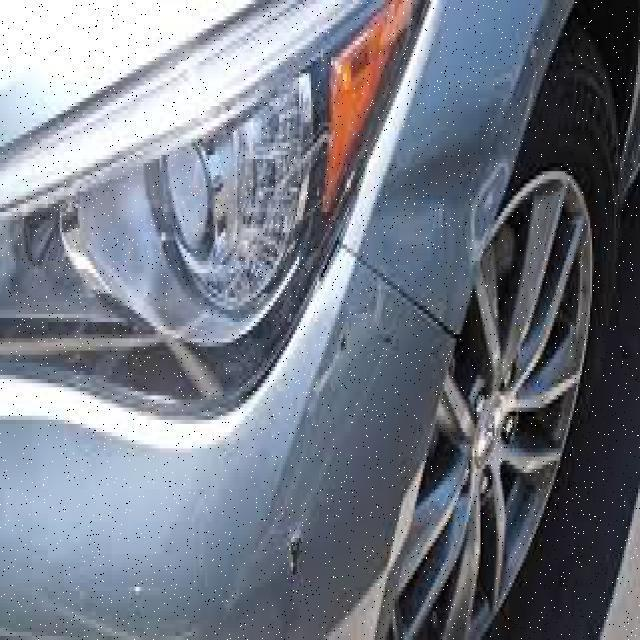front-bumper-dent: (0, 240, 443, 636)
